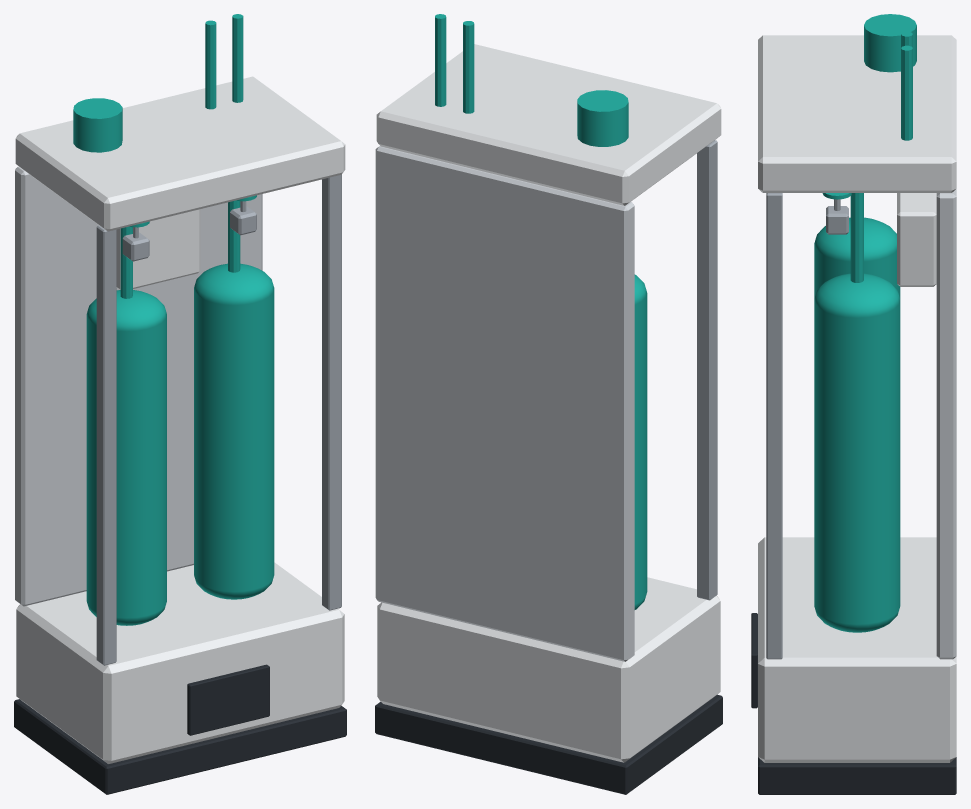
Rendered from gas-purifier.glb.
The picture shows the model from 3 angles, left to right: view 1: azimuth 30°, elevation 25°; view 2: azimuth 150°, elevation 25°; view 3: azimuth 270°, elevation 25°; orthographic projection. The views are drawn at different scales.
Parts seen in each view (by area): view 1: gas-purifier; view 2: gas-purifier; view 3: gas-purifier.
Boxes of the visible parts, left/top/right/bottom form: gas-purifier: left=14, top=14, right=346, bottom=794; gas-purifier: left=375, top=14, right=722, bottom=794; gas-purifier: left=751, top=14, right=956, bottom=794.
Size of the model in its own units: 0.9 by 2.42 by 0.62.
